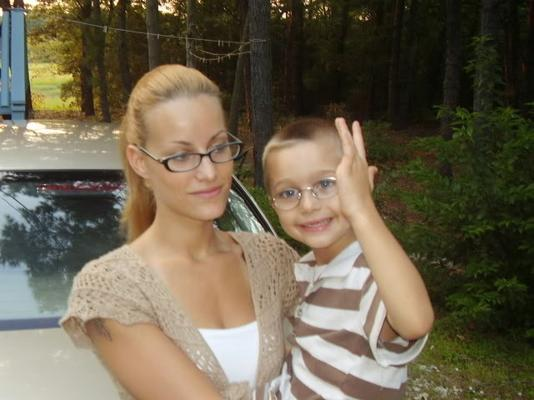person: (259, 118, 435, 400)
